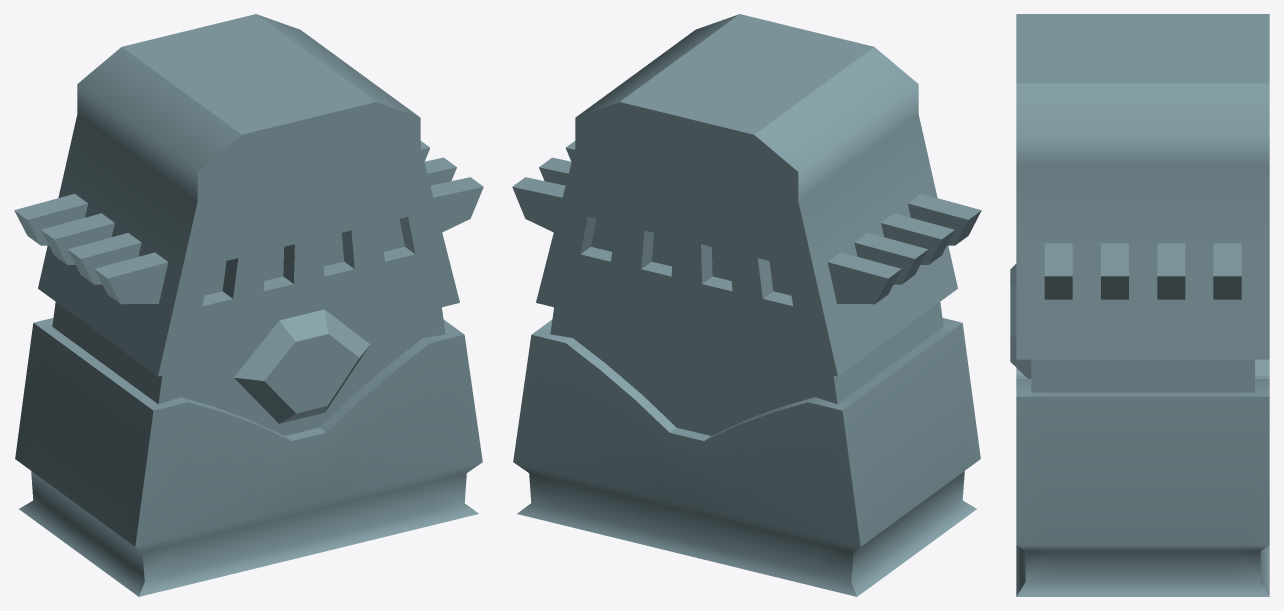
File: LittleTotem.fbx
3 views of the same model, side by side, from view 1: azimuth 30°, elevation 25°; view 2: azimuth 150°, elevation 25°; view 3: azimuth 270°, elevation 25° (orthographic). The views are drawn at different scales.
Parts seen in each view (by area): view 1: Little_Totem; view 2: Little_Totem; view 3: Little_Totem.
Boxes of the visible parts, <box> form: Little_Totem: <box>14,14,483,596</box>; Little_Totem: <box>512,14,981,596</box>; Little_Totem: <box>1010,14,1269,596</box>.
Bounding box in the file's own units: 5.14 × 5.71 × 2.91.
